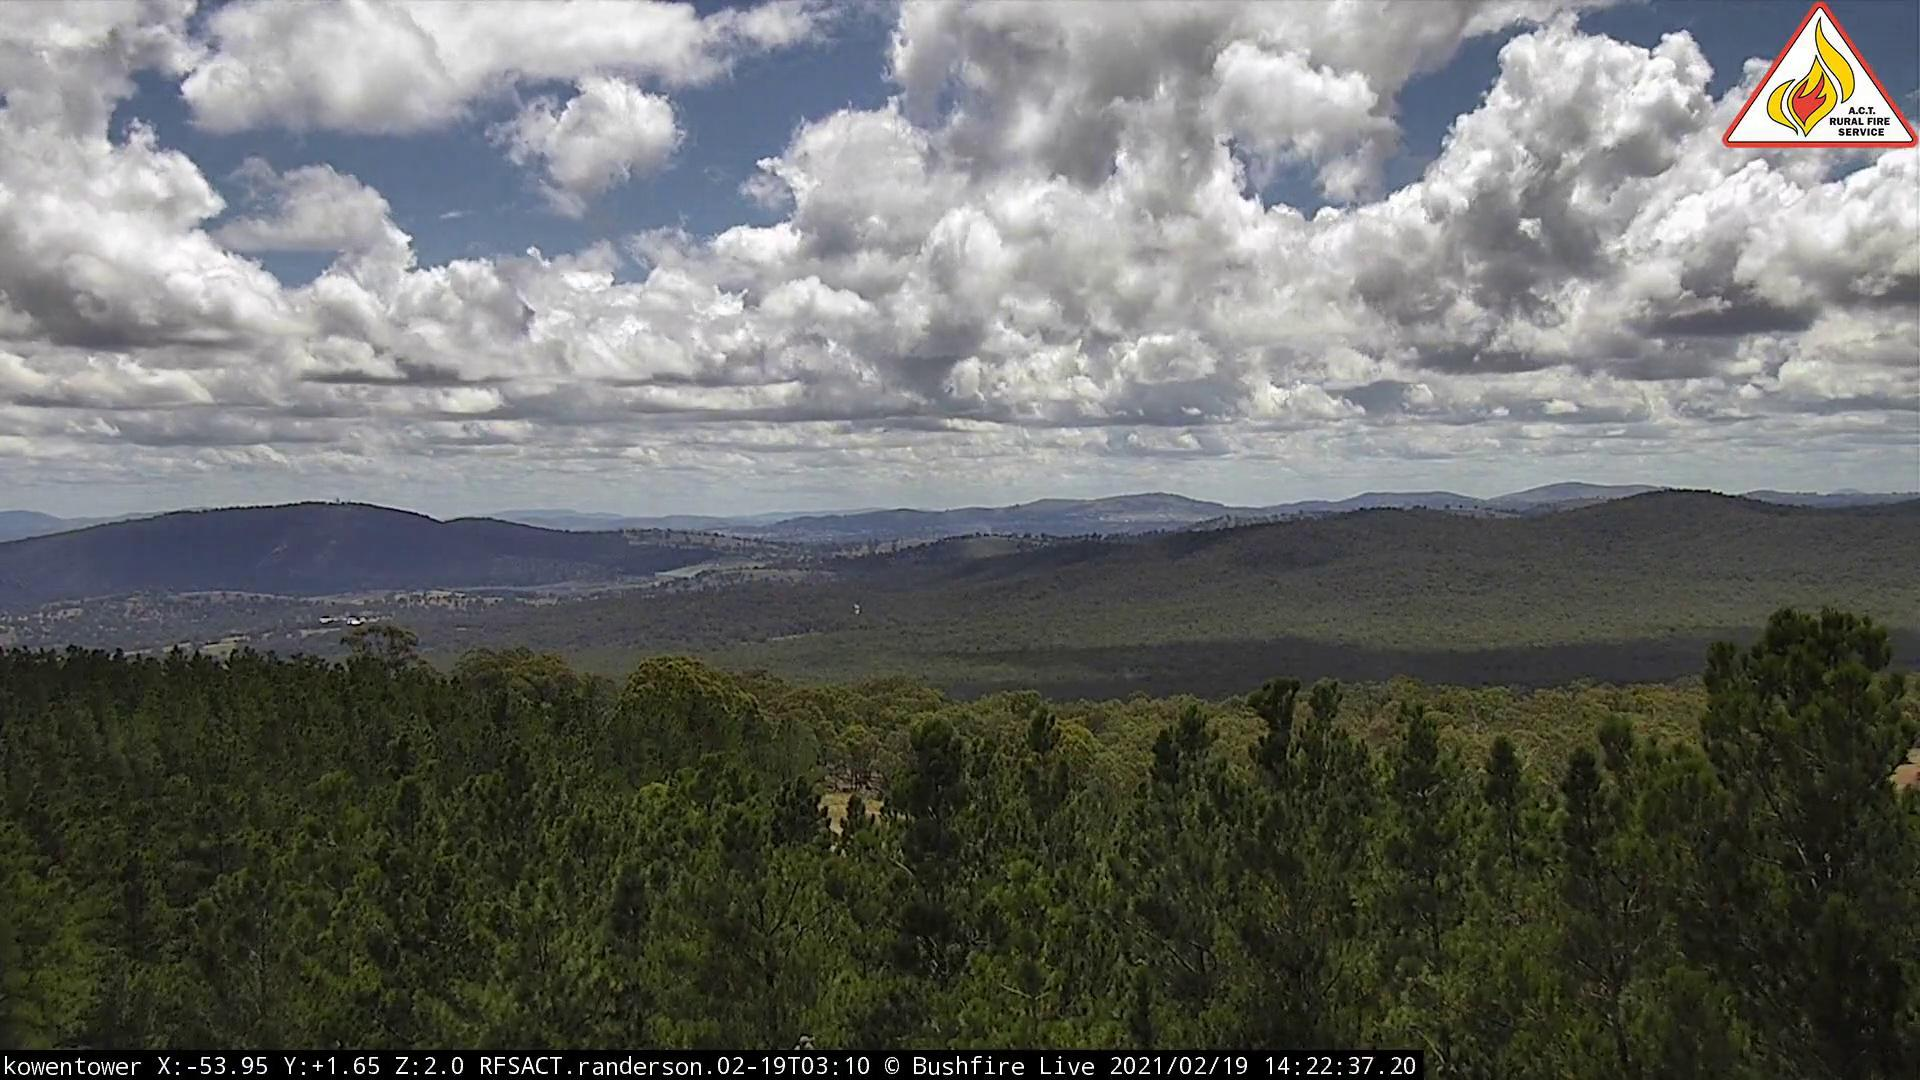Smoke: (964, 521, 1004, 547)
